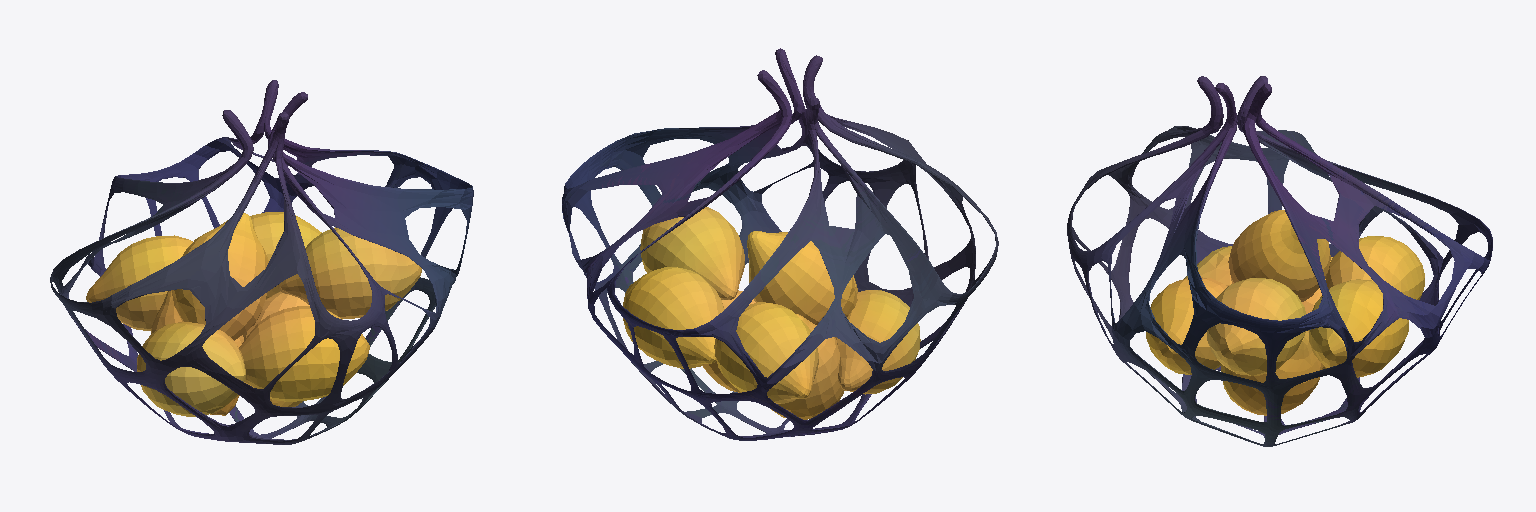
3 renders of one model, left to right at view 1: azimuth 30°, elevation 25°; view 2: azimuth 150°, elevation 25°; view 3: azimuth 270°, elevation 25°, orthographic.
Parts seen in each view (by area): view 1: Group33714, Group65535, Group32763; view 2: Group33714, Group65535, Group32763; view 3: Group33714, Group65535.
Boxes of the visible parts, x1,y1,x2,y2 form: Group33714: [50, 80, 473, 444]; Group65535: [86, 212, 421, 416]; Group32763: [151, 290, 243, 415]; Group33714: [562, 48, 998, 440]; Group65535: [623, 207, 920, 403]; Group32763: [771, 314, 844, 419]; Group33714: [1067, 76, 1492, 446]; Group65535: [1146, 210, 1424, 415].
Bounding box in the file's own units: 2.82 × 2.46 × 2.63.
1 materials, 1 textured.